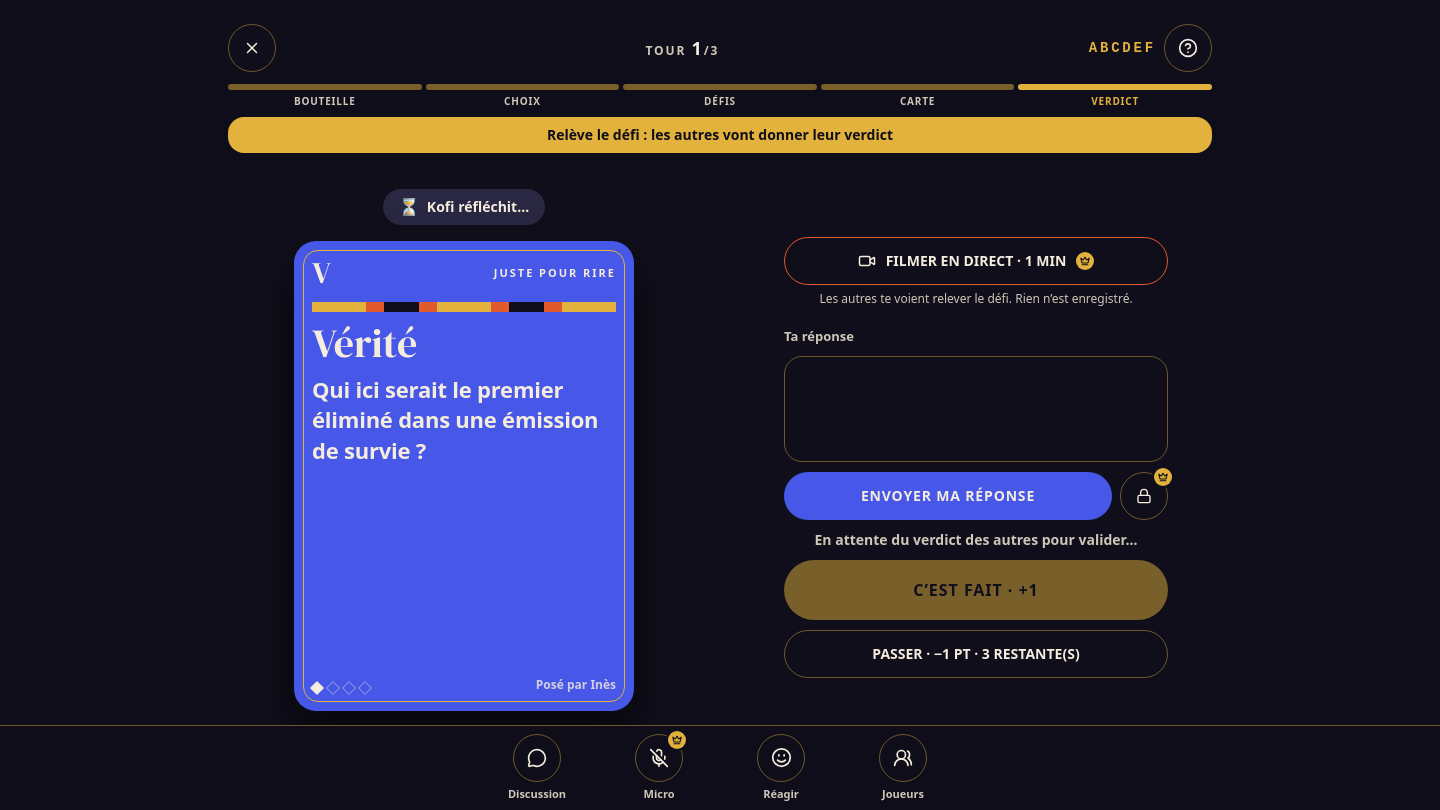
Test: voice answers need a Premium host: otherwise the mic explains why
Click the button named "message vocal".
click(1144, 496)  # box [1120,472,1168,520]
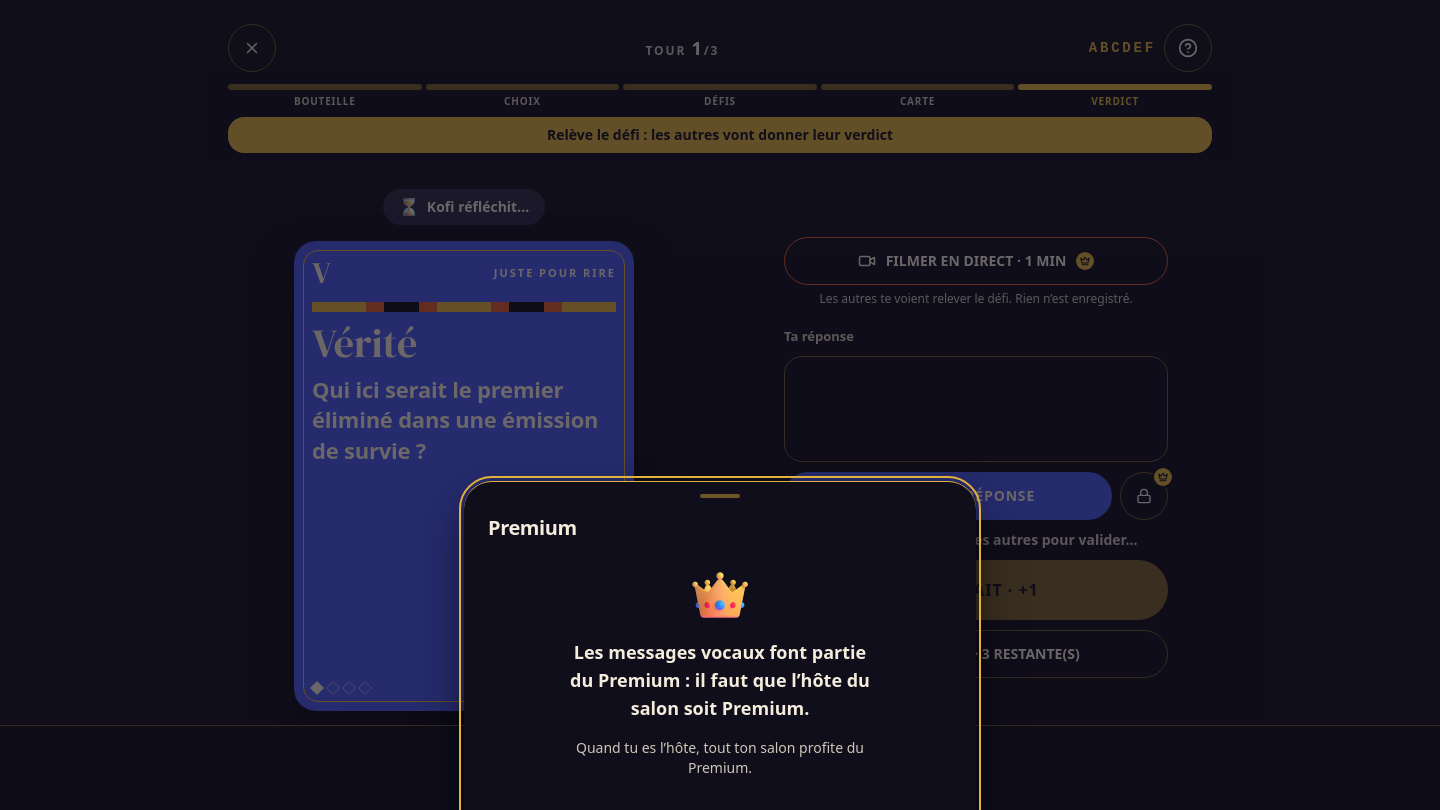
expect the dialog shows "l’hôte du salon soit premium": met, box [570,640,870,720]
